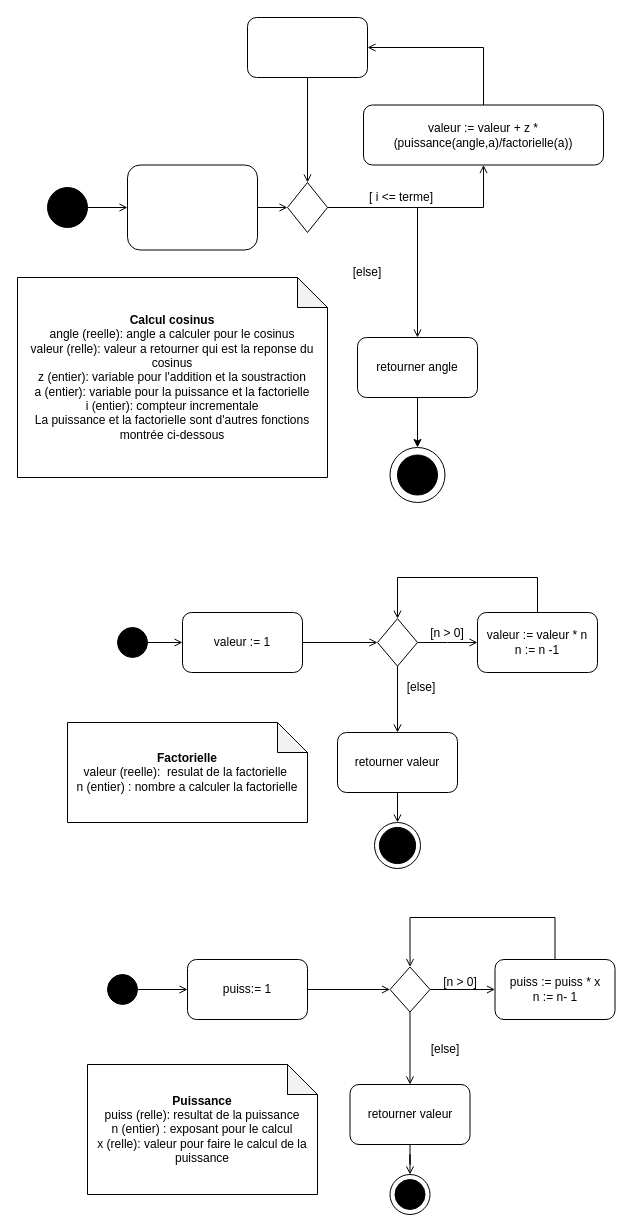
Image size: 633x1232. Some labels were removed from this diagram. The shapes that lost their labels are listed below. From the top down, each one's centre as x and y in pixels, then its label:
[307,47]: a := a + 2 z := z * (-1) i := i +1
[192,207]: valeur :=0 z := 1 a := 0 terme :=5 i := 0
